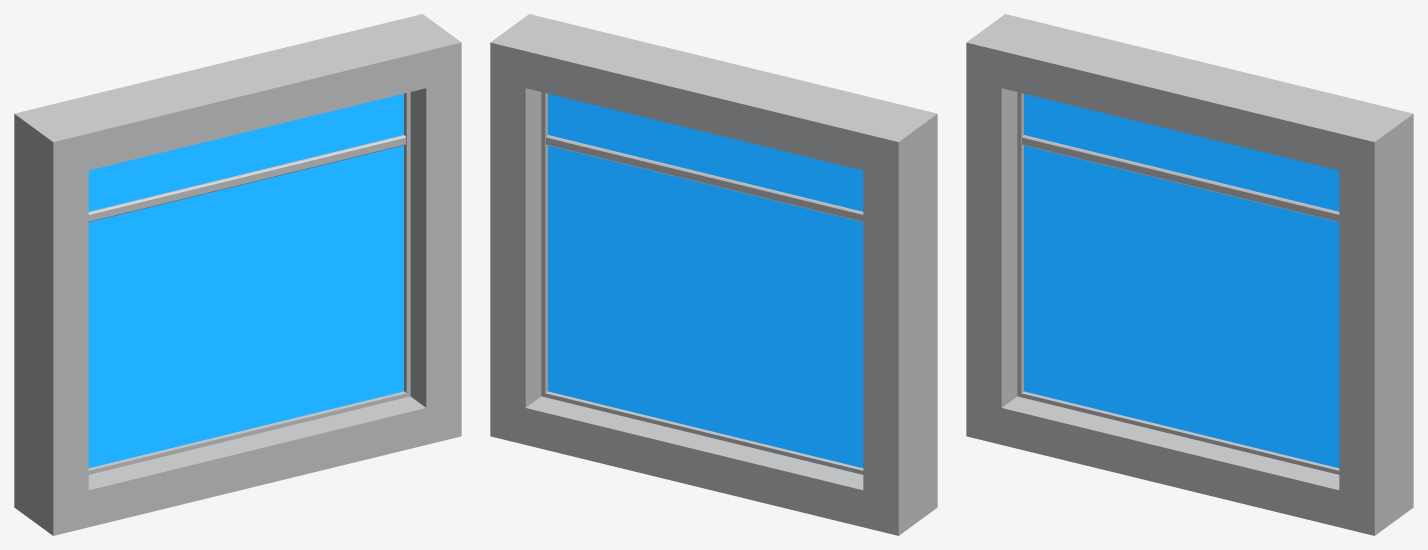
The model's file is janela_quadrada_bandeira_branca.glb.
The picture shows the model from 3 angles, left to right: view 1: azimuth 30°, elevation 25°; view 2: azimuth 150°, elevation 25°; view 3: azimuth 330°, elevation 25°; orthographic projection.
Visible parts, largest first — view 1: janela_quadrada_bandeira_branca; view 2: janela_quadrada_bandeira_branca; view 3: janela_quadrada_bandeira_branca.
Boxes of the visible parts, <box> form: janela_quadrada_bandeira_branca: <box>14,14,461,535</box>; janela_quadrada_bandeira_branca: <box>490,14,937,535</box>; janela_quadrada_bandeira_branca: <box>966,14,1413,535</box>.
Bounding box in the file's own units: 1.27 × 1.17 × 0.21.
